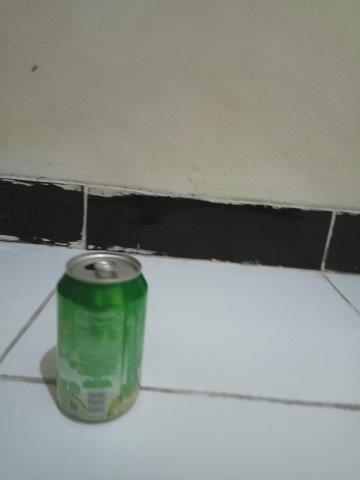kaleng: (57, 251, 149, 424)
